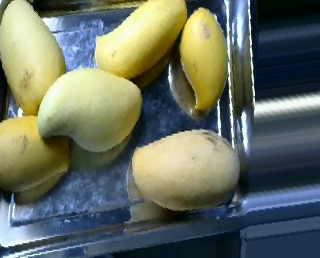Mango: (35, 63, 144, 153), (130, 125, 241, 210), (0, 0, 67, 116), (89, 0, 188, 78), (174, 5, 231, 114), (0, 117, 71, 194)
